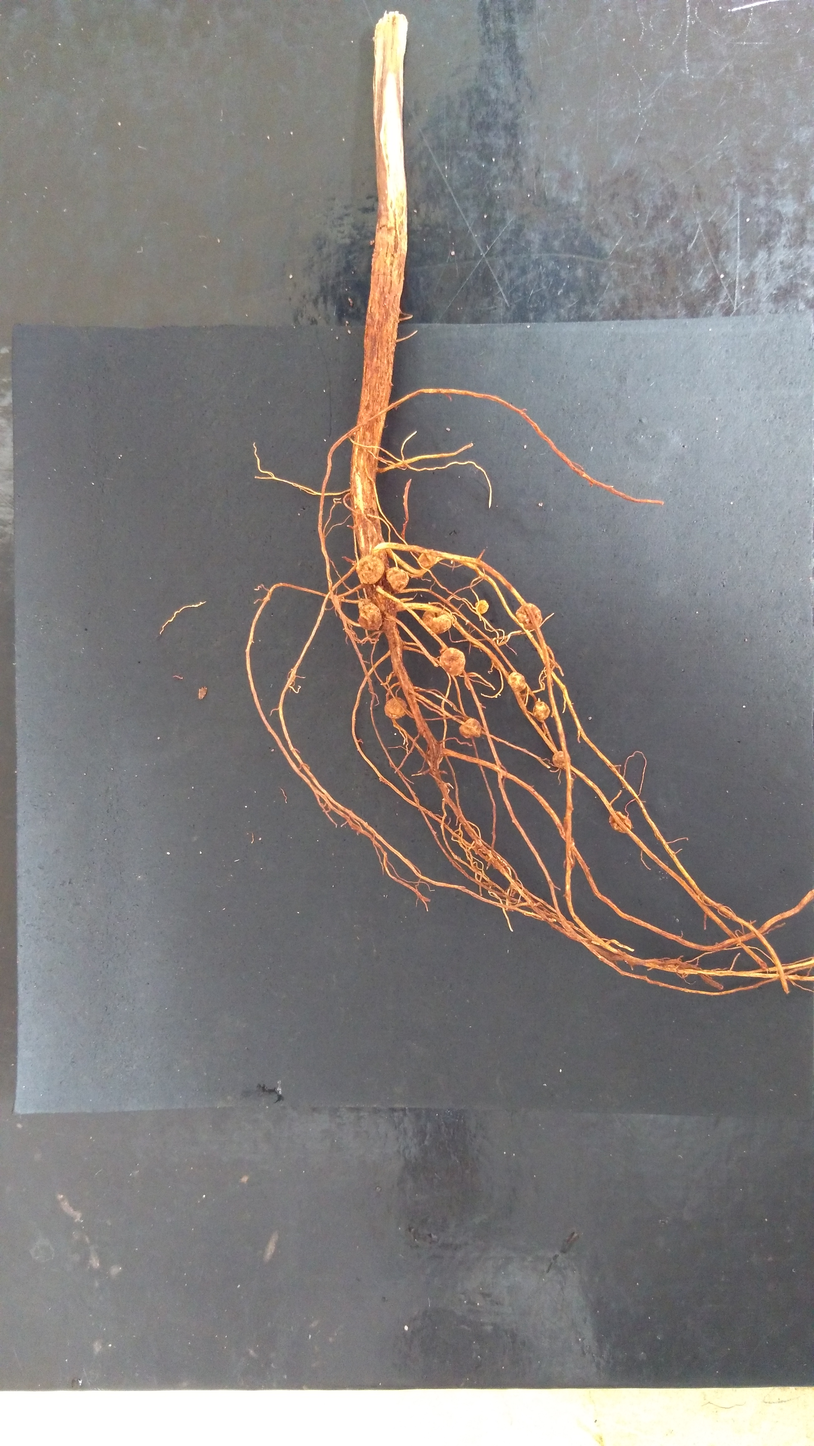nodule: (355, 555, 385, 584), (357, 598, 383, 631), (422, 608, 451, 634), (439, 647, 465, 676), (516, 603, 542, 631), (385, 567, 410, 593), (609, 810, 632, 834), (384, 697, 407, 720), (458, 718, 482, 739), (426, 742, 444, 768), (532, 700, 550, 723), (508, 671, 526, 692), (552, 750, 571, 768), (418, 551, 438, 568), (475, 600, 489, 615)
